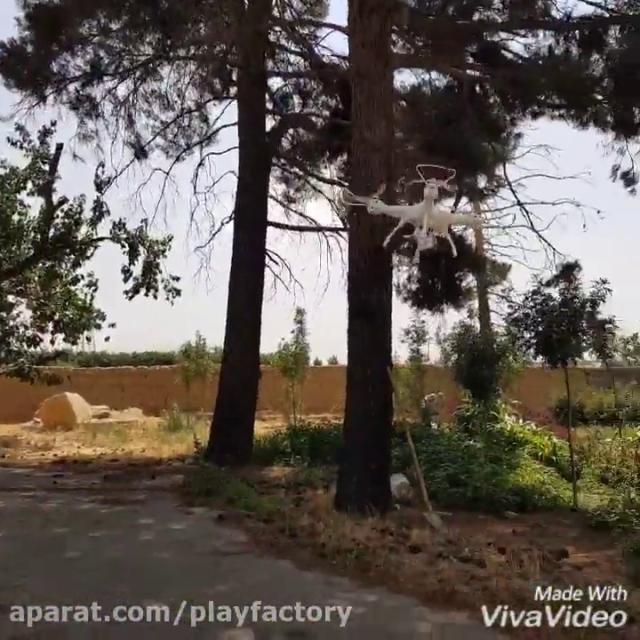drone: (337, 161, 505, 264)
